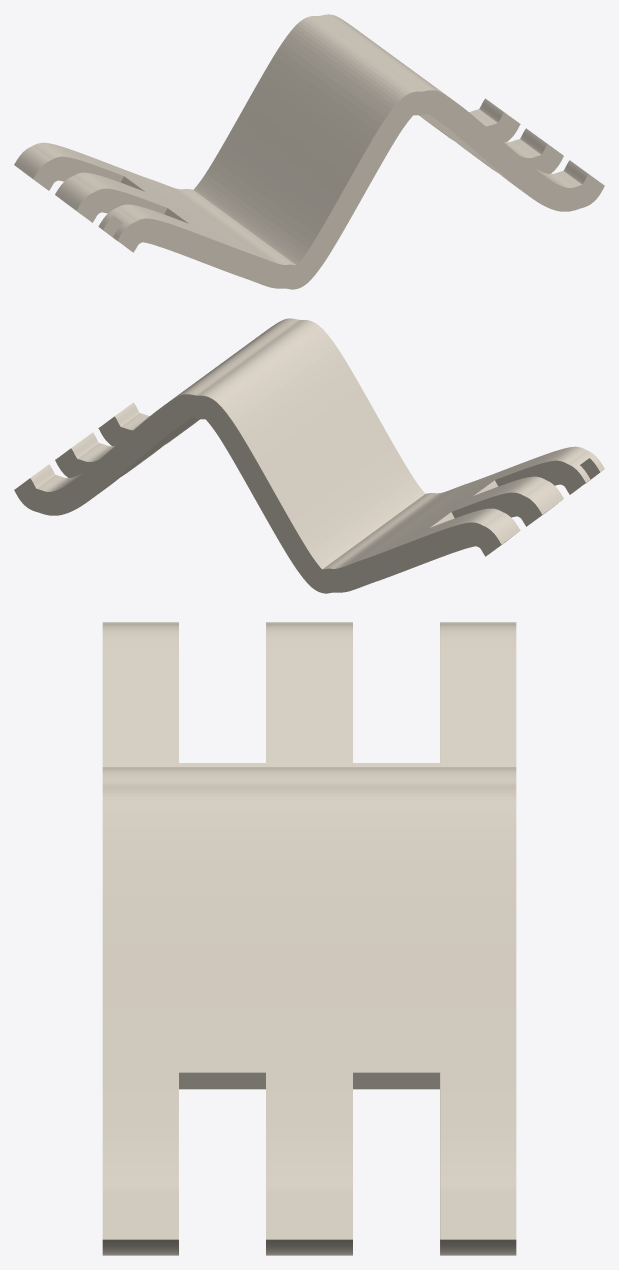
Rendered from product-15-g1-clip.glb.
The picture shows the model from 3 angles, top to bottom: view 1: azimuth 30°, elevation 25°; view 2: azimuth 150°, elevation 25°; view 3: azimuth 270°, elevation 25°; orthographic projection. The views are drawn at different scales.
Parts seen in each view (by area): view 1: G1_Central_Bridge, G1_Left_Prong_1, G1_Right_Prong_1, G1_Left_Prong_2, G1_Left_Prong_3, G1_Right_Prong_2, G1_Right_Prong_3; view 2: G1_Central_Bridge, G1_Left_Prong_3, G1_Right_Prong_3, G1_Left_Prong_2, G1_Left_Prong_1, G1_Right_Prong_2, G1_Right_Prong_1; view 3: G1_Central_Bridge, G1_Right_Prong_2, G1_Right_Prong_3, G1_Right_Prong_1, G1_Left_Prong_2, G1_Left_Prong_1, G1_Left_Prong_3.
Boxes of the visible parts, <box> form: G1_Central_Bridge: <box>105,14,525,289</box>; G1_Left_Prong_1: <box>98,204,212,262</box>; G1_Right_Prong_1: <box>491,160,604,211</box>; G1_Left_Prong_2: <box>55,172,171,222</box>; G1_Left_Prong_3: <box>14,142,123,190</box>; G1_Right_Prong_2: <box>441,128,563,173</box>; G1_Right_Prong_3: <box>419,98,520,142</box>; G1_Central_Bridge: <box>93,318,513,593</box>; G1_Left_Prong_3: <box>404,508,520,566</box>; G1_Right_Prong_3: <box>14,459,133,515</box>; G1_Left_Prong_2: <box>446,476,563,526</box>; G1_Left_Prong_1: <box>495,446,604,494</box>; G1_Right_Prong_2: <box>55,432,177,477</box>; G1_Right_Prong_1: <box>98,402,199,446</box>; G1_Central_Bridge: <box>102,763,516,1089</box>; G1_Right_Prong_2: <box>266,1052,352,1255</box>; G1_Right_Prong_3: <box>440,1052,516,1255</box>; G1_Right_Prong_1: <box>102,1052,178,1255</box>; G1_Left_Prong_2: <box>266,622,352,765</box>; G1_Left_Prong_1: <box>102,622,178,766</box>; G1_Left_Prong_3: <box>440,622,516,764</box>.
Size of the model in its own units: 0.0517 by 0.0171 by 0.019.
